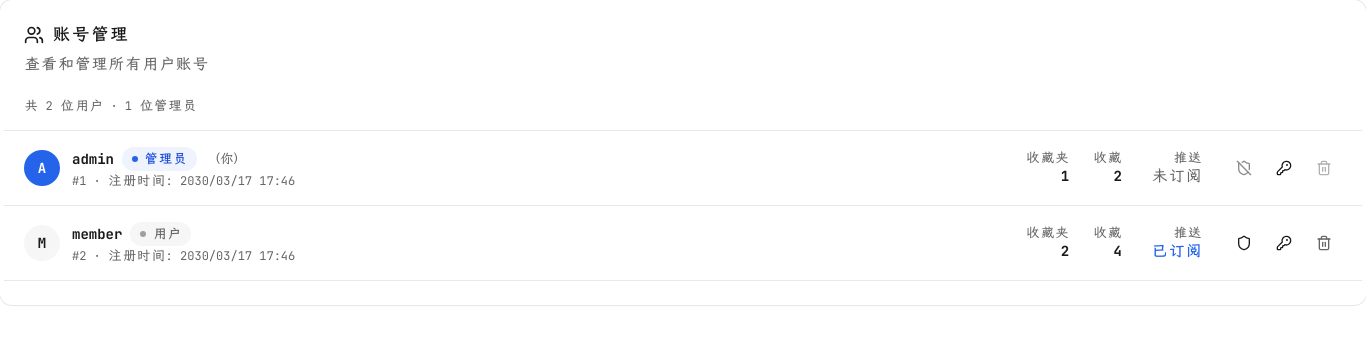
Test: administrator users › changes roles and protects the current administrator
Check: the button named "取消 admin 的管理员" is disabled, box [1226,150,1262,186]
Check: the button named "删除用户 admin" is disabled, box [1306,150,1342,186]
Click the button named "设为 member 为管理员" at (1244, 243), box [1226,225,1262,261]
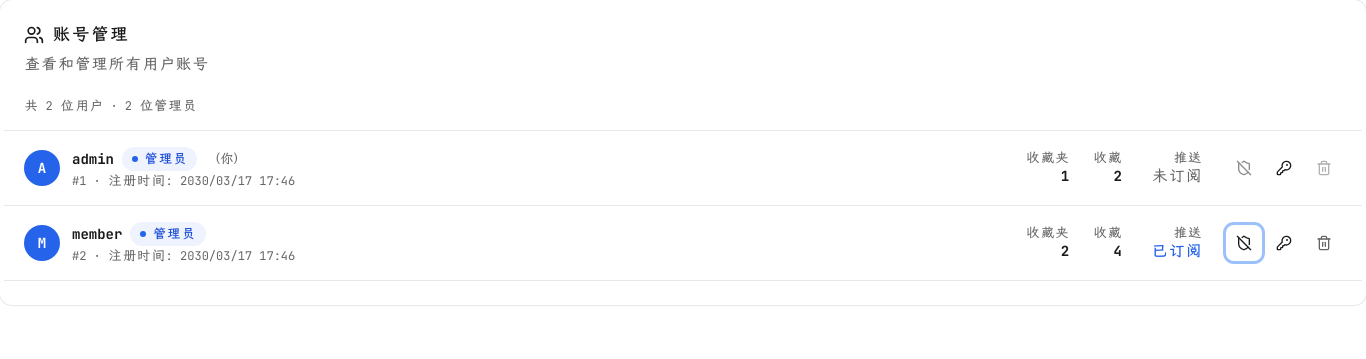
Check: the button named "取消 member 的管理员" is shown
Click the button named "取消 member 的管理员" at (1244, 243), box [1226,225,1262,261]
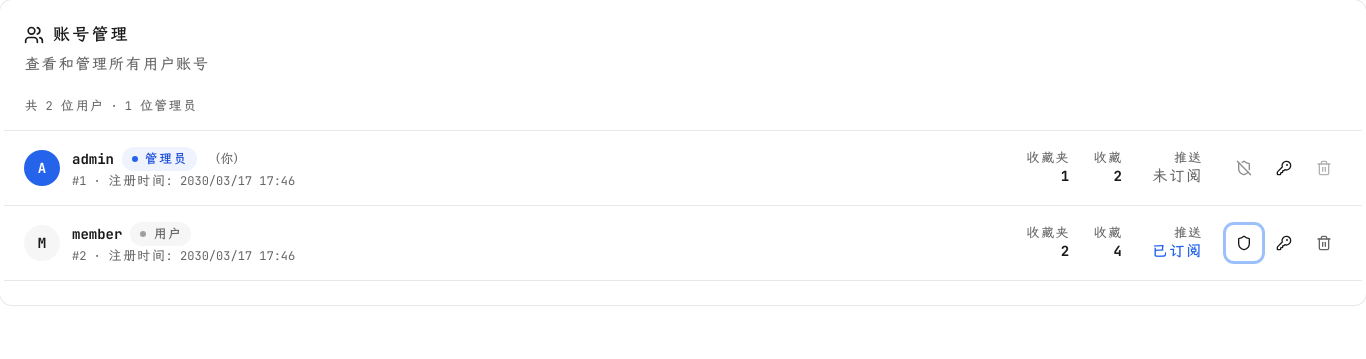
Check: the button named "设为 member 为管理员" is shown
Click the button named "设为 member 为管理员" at (1244, 243), box [1226,225,1262,261]
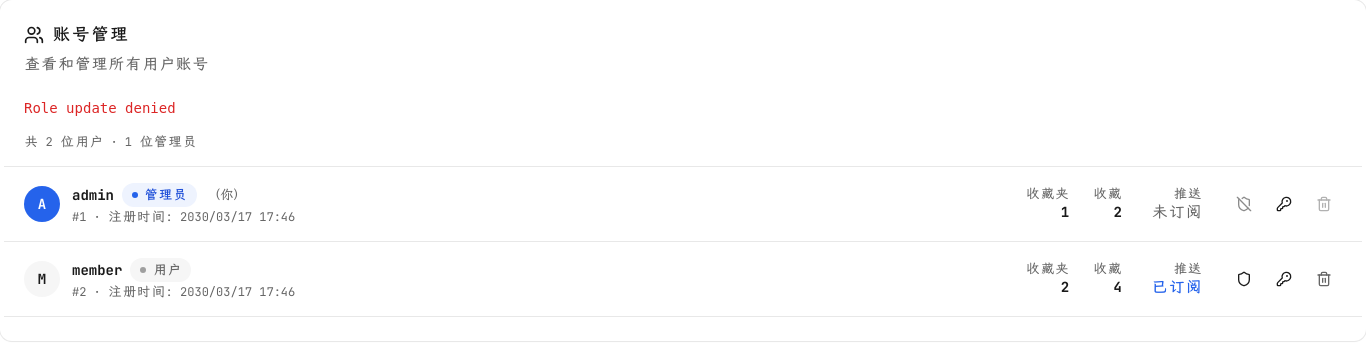
Check: the button named "设为 member 为管理员" is shown, box [1226,261,1262,297]
Check: the message reads "Role update denied", box [24,99,176,117]
